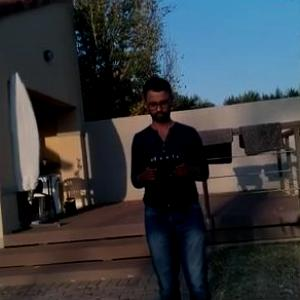follow: (125, 72, 216, 299)
